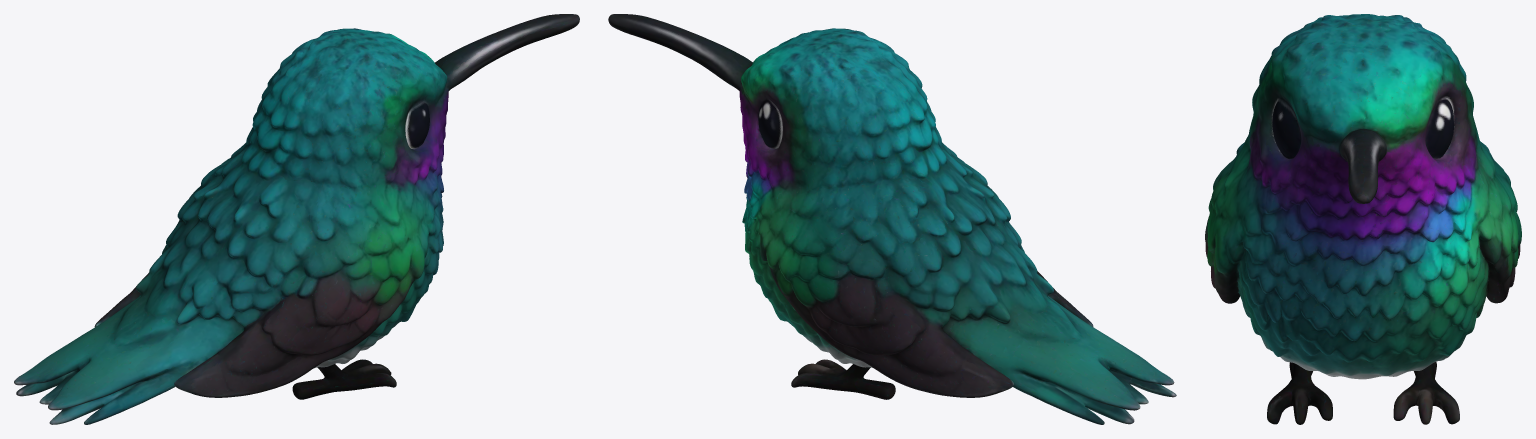
The picture shows the model from 3 angles, left to right: view 1: azimuth 30°, elevation 25°; view 2: azimuth 150°, elevation 25°; view 3: azimuth 270°, elevation 25°; orthographic projection. The views are drawn at different scales.
Parts seen in each view (by area): view 1: world; view 2: world; view 3: world.
Part boxes in pixels (x1,y1,x2,y2): world: (14, 14, 579, 424); world: (608, 14, 1176, 424); world: (1205, 14, 1521, 424).
Bounding box in the file's own units: 0.999 × 0.5592 × 0.4028.
Materials: 1 (1 with a texture image).
